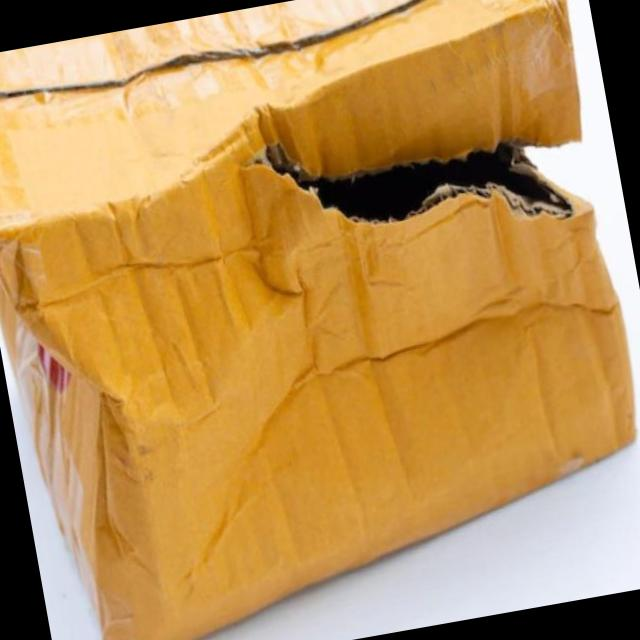box: (1, 1, 639, 639)
crushed: (1, 99, 633, 640)
tear: (242, 140, 586, 222)
